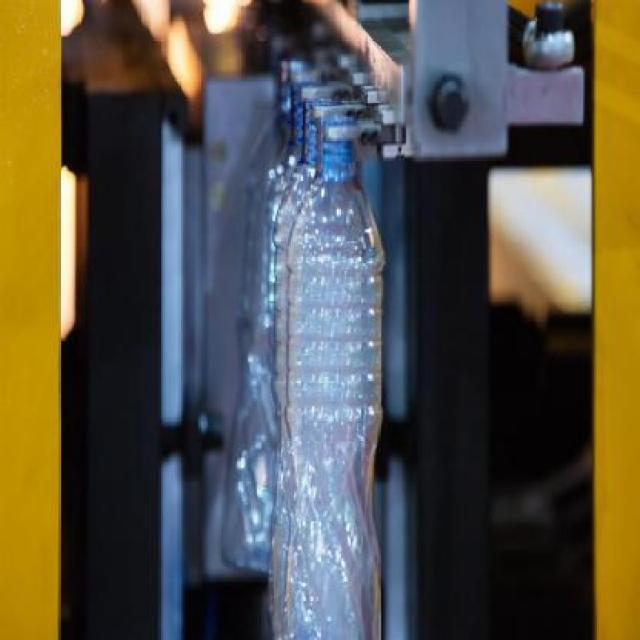bottle: (281, 128, 396, 640)
